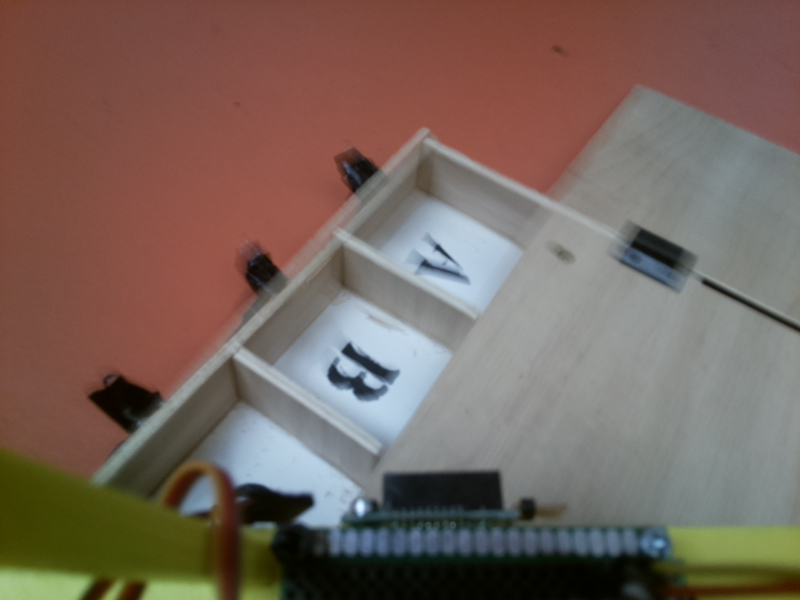side: (63, 125, 437, 509)
slope: (539, 83, 800, 334)
